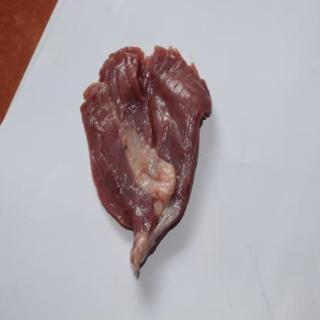Daging Sapi: (83, 49, 215, 276)
